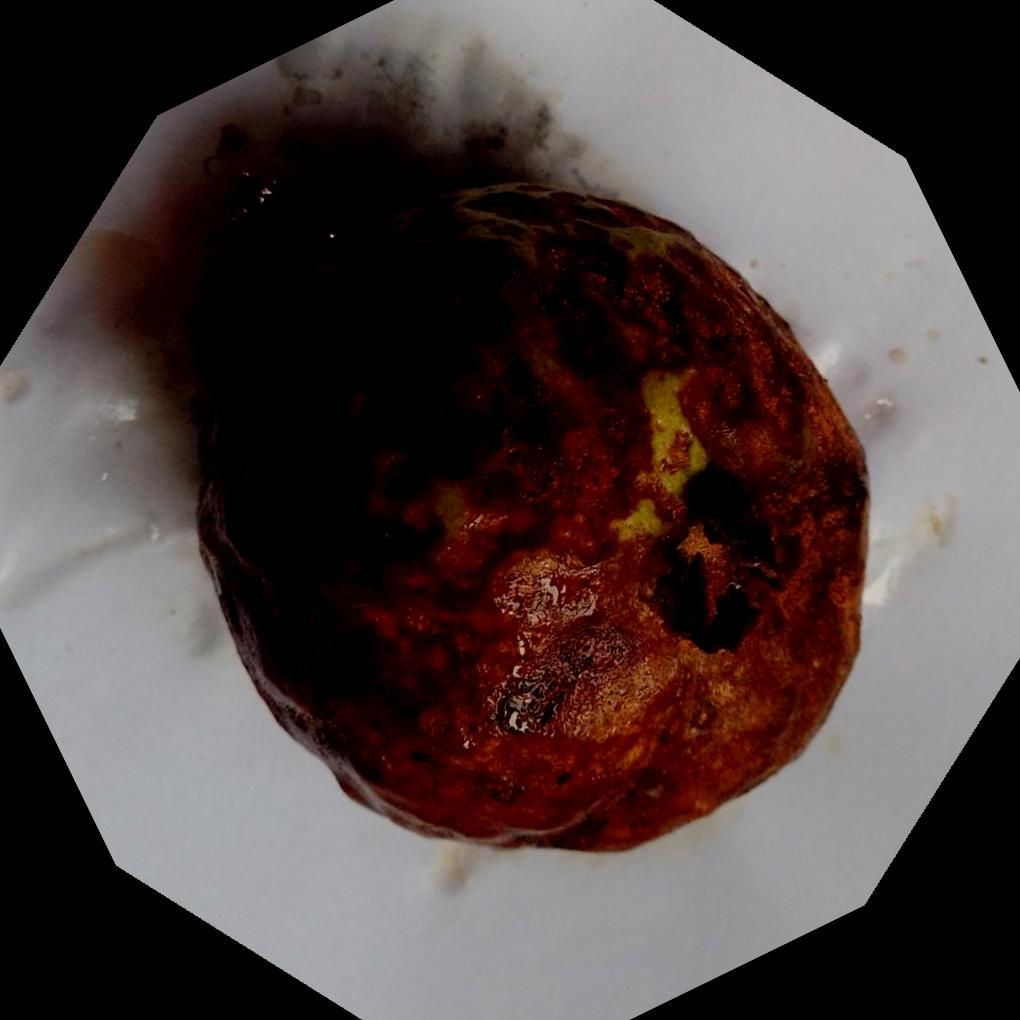FreshOrange: (188, 178, 872, 858)
